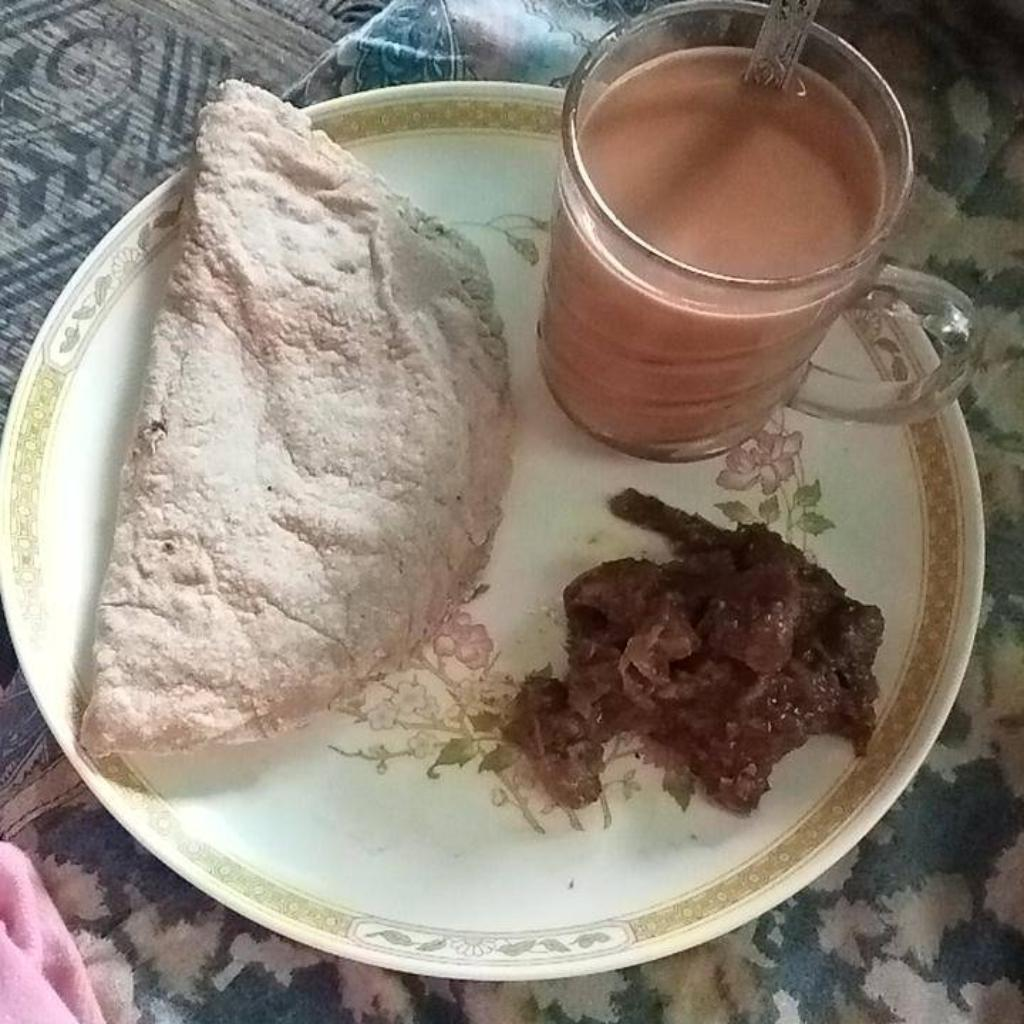cha: (583, 50, 877, 272)
chicken: (511, 484, 885, 811)
ruti: (76, 78, 515, 754)
